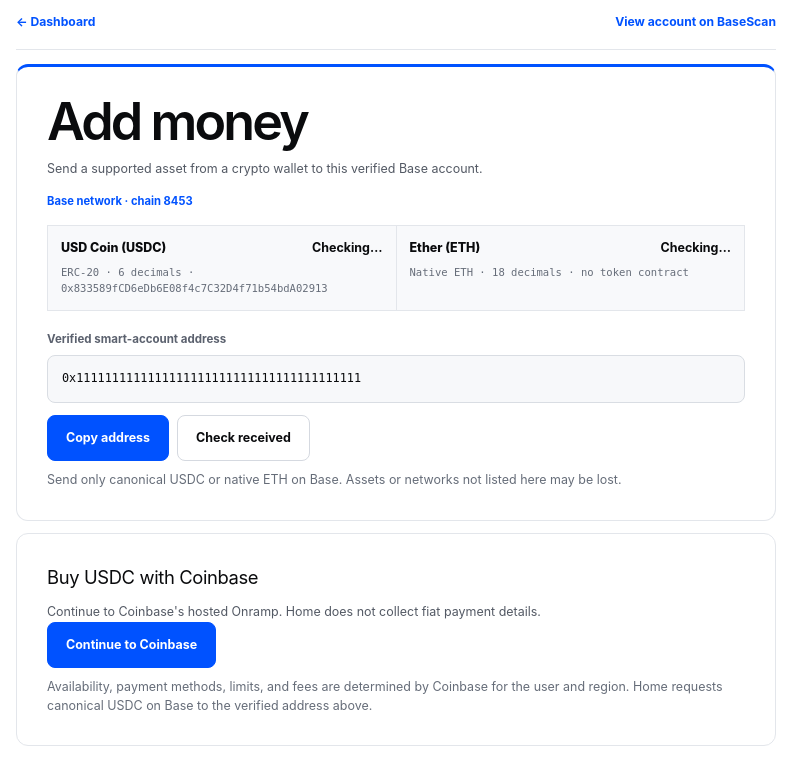
FundingExperience › does not navigate to an old account's hosted session after the account changes
Click the button "Continue to Coinbase". click: (132, 645)
box: [47,622,216,668]
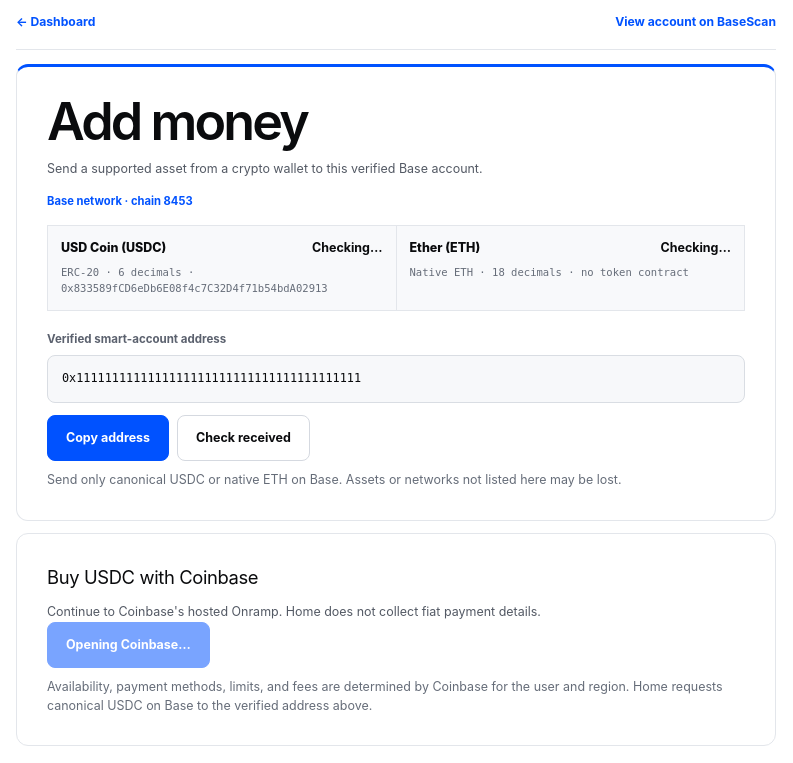
Check: the button "Opening Coinbase…" is shown, box [47,622,210,668]
